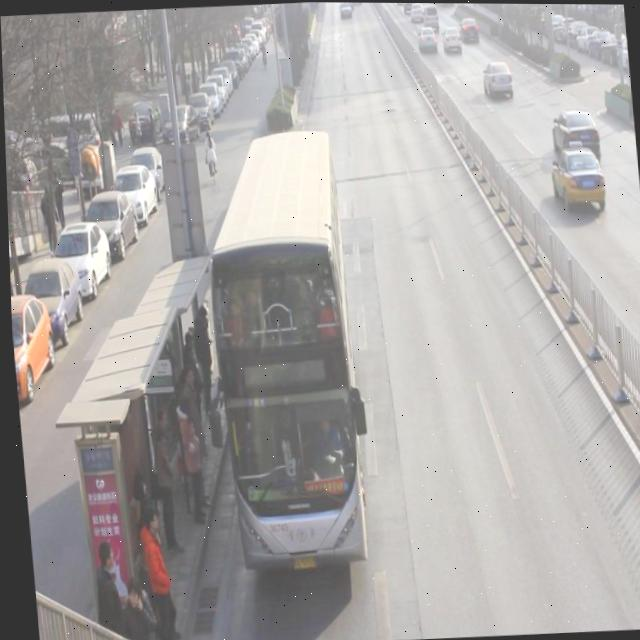car: (548, 135, 608, 212), (550, 104, 602, 162), (481, 55, 515, 99), (441, 23, 464, 53), (459, 13, 481, 43), (416, 22, 438, 51), (410, 2, 424, 19), (340, 2, 352, 18)
truck: (421, 2, 440, 30)
van: (195, 128, 366, 564)
